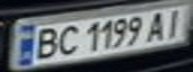1: (81, 19, 100, 52), (96, 17, 115, 50)
9: (124, 12, 148, 46), (109, 16, 130, 48)
A: (142, 9, 172, 43)
B: (27, 25, 63, 61)
C: (54, 22, 81, 56)
I: (160, 6, 190, 38)
